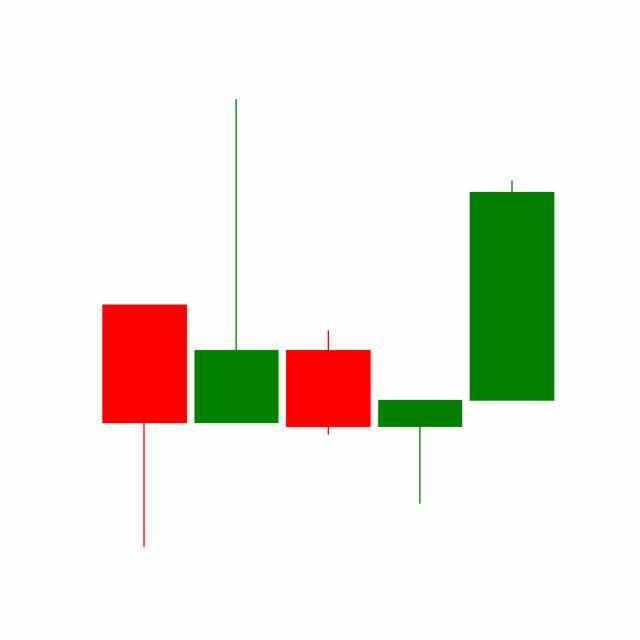Marubozu: (464, 177, 558, 402)
